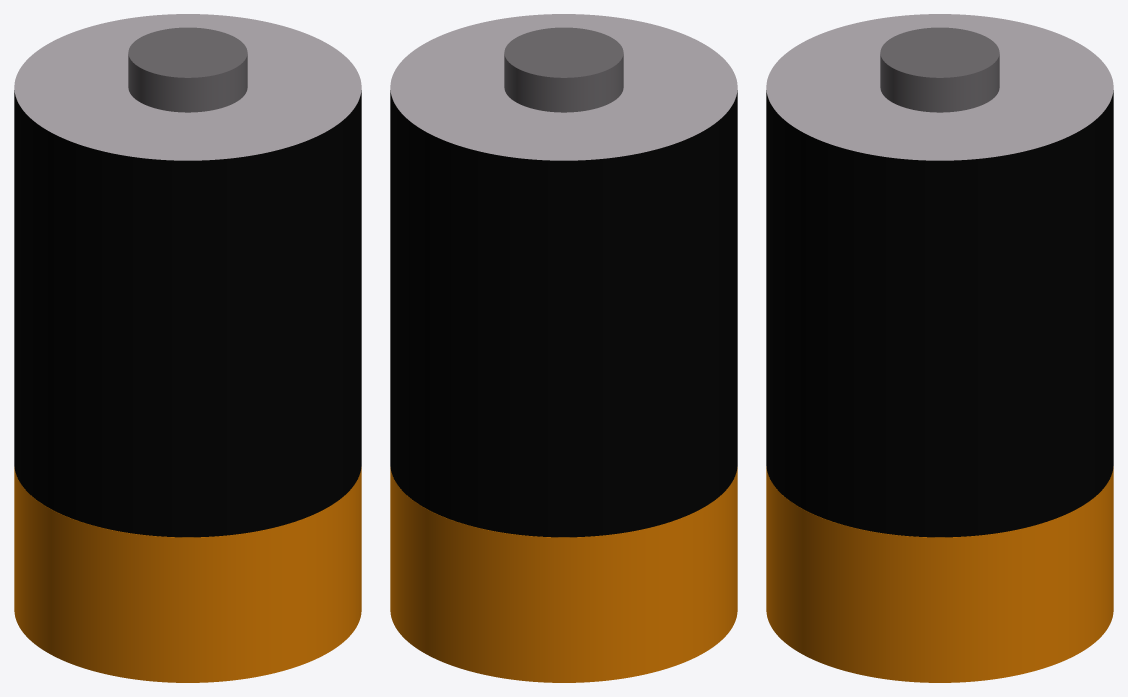
The model's file is Battery.fbx.
3 renders of one model, left to right at view 1: azimuth 30°, elevation 25°; view 2: azimuth 150°, elevation 25°; view 3: azimuth 270°, elevation 25°, orthographic.
Parts seen in each view (by area): view 1: Cylinder, Cylinder.001, Cylinder.004; view 2: Cylinder, Cylinder.001, Cylinder.004; view 3: Cylinder, Cylinder.001, Cylinder.004.
Part boxes in pixels (x1=…): Cylinder: x1=14, y1=14, x2=361, y2=537; Cylinder.001: x1=14, y1=467, x2=361, y2=682; Cylinder.004: x1=128, y1=27, x2=247, y2=112; Cylinder: x1=390, y1=14, x2=737, y2=537; Cylinder.001: x1=390, y1=467, x2=737, y2=682; Cylinder.004: x1=504, y1=27, x2=623, y2=112; Cylinder: x1=766, y1=14, x2=1113, y2=537; Cylinder.001: x1=766, y1=466, x2=1113, y2=682; Cylinder.004: x1=880, y1=27, x2=999, y2=112.
Bounding box in the file's own units: 74.27 × 131 × 74.27.
